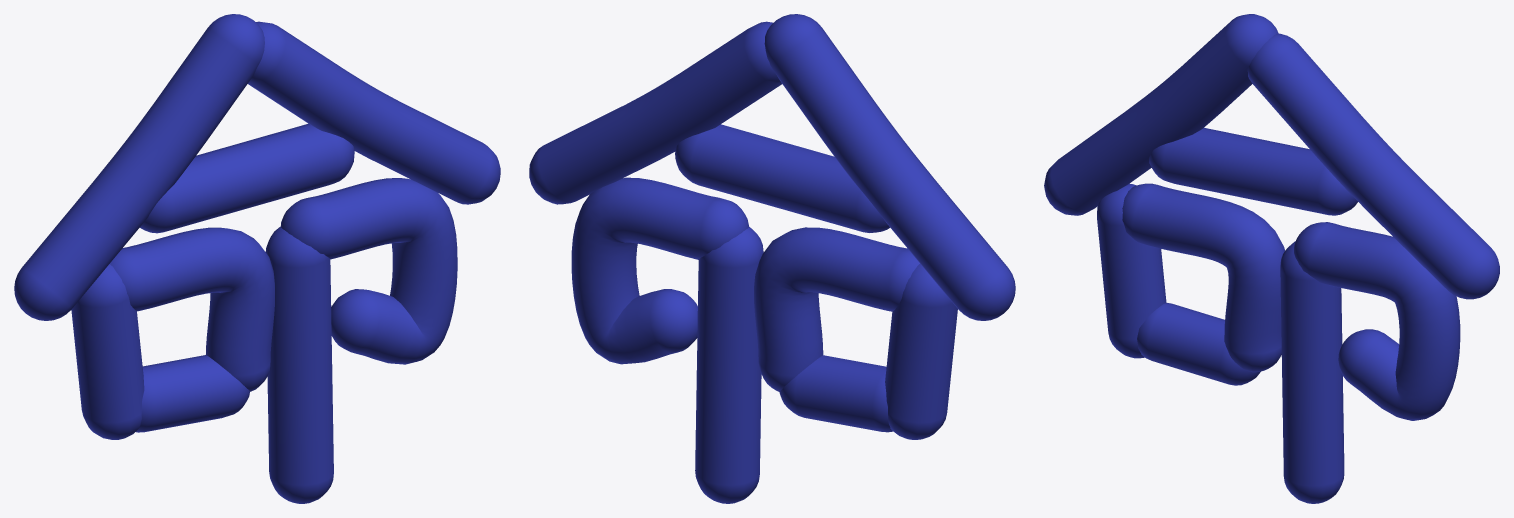
File: Inochi.fbx
The picture shows the model from 3 angles, left to right: view 1: azimuth 30°, elevation 25°; view 2: azimuth 150°, elevation 25°; view 3: azimuth 330°, elevation 25°; orthographic projection. The views are drawn at different scales.
Parts seen in each view (by area): view 1: root (×3), node_id49 (×3), node_id44 (×2); view 2: root (×3), node_id49 (×3), node_id44 (×2); view 3: root (×3), node_id49 (×3), node_id44 (×2).
Boxes of the visible parts, <box> form: root (×3): <box>14,14,500,320</box>; node_id49 (×3): <box>136,178,457,503</box>; node_id44 (×2): <box>71,227,274,439</box>; root (×3): <box>529,14,1015,320</box>; node_id49 (×3): <box>571,177,892,503</box>; node_id44 (×2): <box>754,227,957,439</box>; root (×3): <box>1044,14,1499,299</box>; node_id49 (×3): <box>1137,222,1460,503</box>; node_id44 (×2): <box>1097,183,1284,372</box>.
Bounding box in the file's own units: 0.5057 × 0.5059 × 0.0593.
